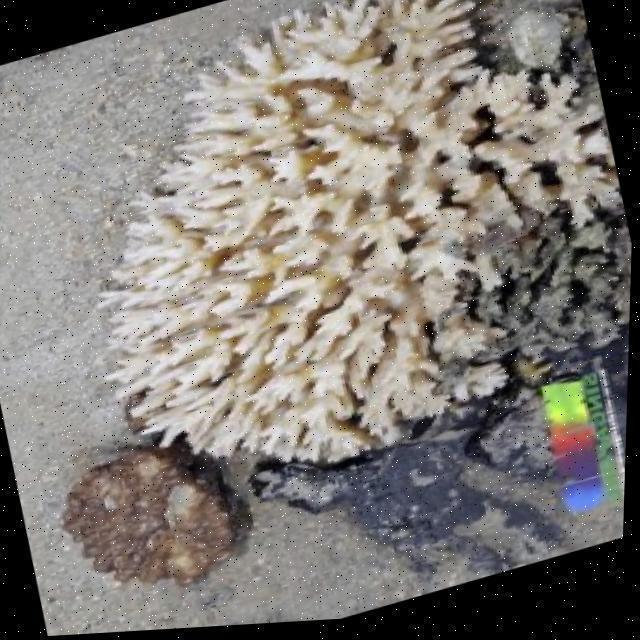Bleached Coral: (14, 0, 640, 521)
